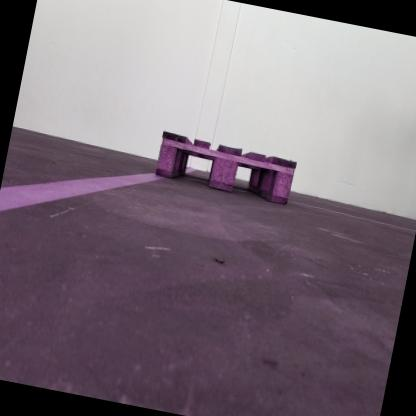BoxFace: (151, 128, 299, 209)
